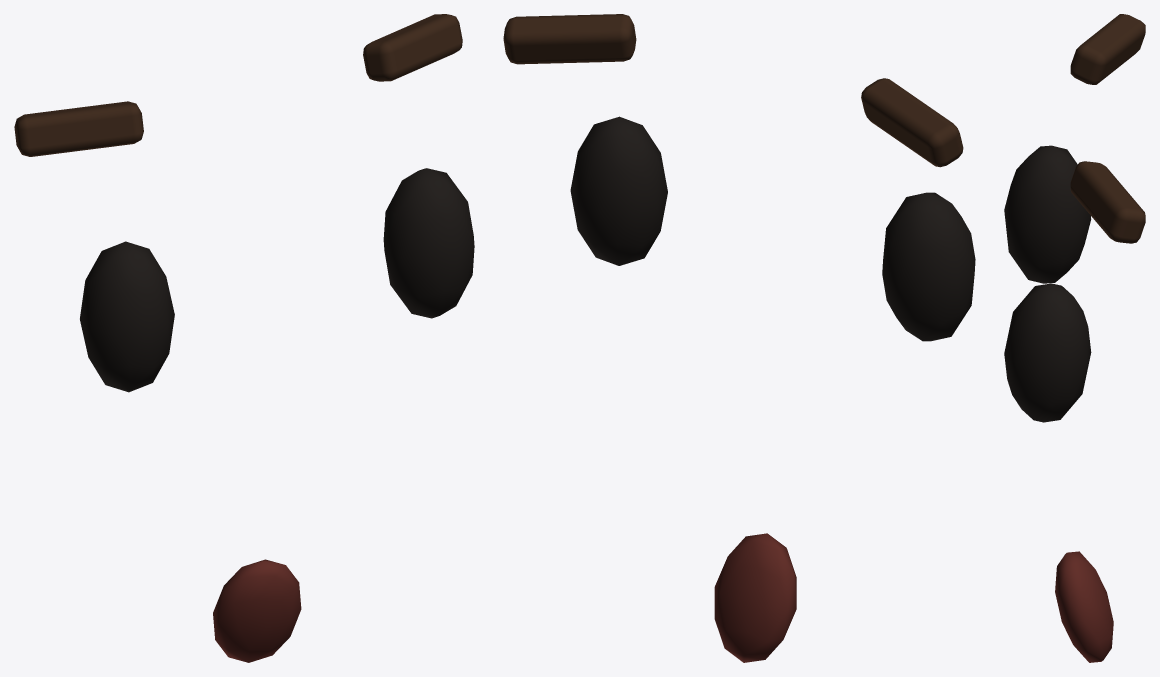
The model's file is 11-surprised.glb.
3 views of the same model, side by side, from view 1: azimuth 30°, elevation 25°; view 2: azimuth 150°, elevation 25°; view 3: azimuth 270°, elevation 25° (orthographic). The views are drawn at different scales.
Visible parts, largest first — view 1: Face11_Eye-1, Face11_Eye1, Face11_MouthOpen, Face11_Brow-1, Face11_Brow1; view 2: Face11_Eye1, Face11_Eye-1, Face11_MouthOpen, Face11_Brow1, Face11_Brow-1; view 3: Face11_Eye1, Face11_Eye-1, Face11_MouthOpen, Face11_Brow1, Face11_Brow-1.
Part boxes in pixels (left/top/right/bottom): Face11_Eye-1: left=80, top=241, right=174, bottom=392; Face11_Eye1: left=383, top=168, right=474, bottom=318; Face11_MouthOpen: left=213, top=559, right=301, bottom=662; Face11_Brow-1: left=14, top=101, right=143, bottom=156; Face11_Brow1: left=363, top=14, right=462, bottom=81; Face11_Eye1: left=570, top=116, right=667, bottom=265; Face11_Eye-1: left=882, top=192, right=975, bottom=341; Face11_MouthOpen: left=714, top=533, right=796, bottom=662; Face11_Brow1: left=503, top=14, right=636, bottom=64; Face11_Brow-1: left=861, top=78, right=963, bottom=167; Face11_Eye1: left=1004, top=283, right=1091, bottom=422; Face11_Eye-1: left=1004, top=145, right=1091, bottom=283; Face11_MouthOpen: left=1055, top=551, right=1113, bottom=662; Face11_Brow1: left=1070, top=161, right=1145, bottom=243; Face11_Brow-1: left=1070, top=14, right=1145, bottom=84.
Bounding box in the file's own units: 0.2716 × 0.3496 × 0.0804.
